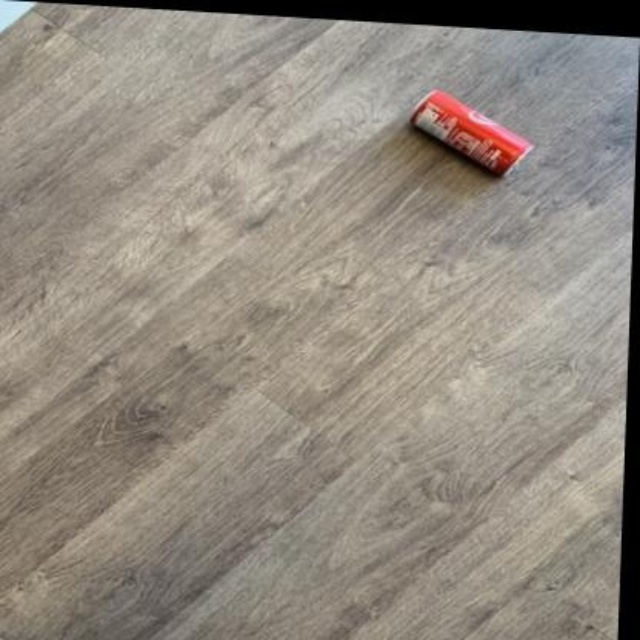trash: (411, 89, 532, 172)
